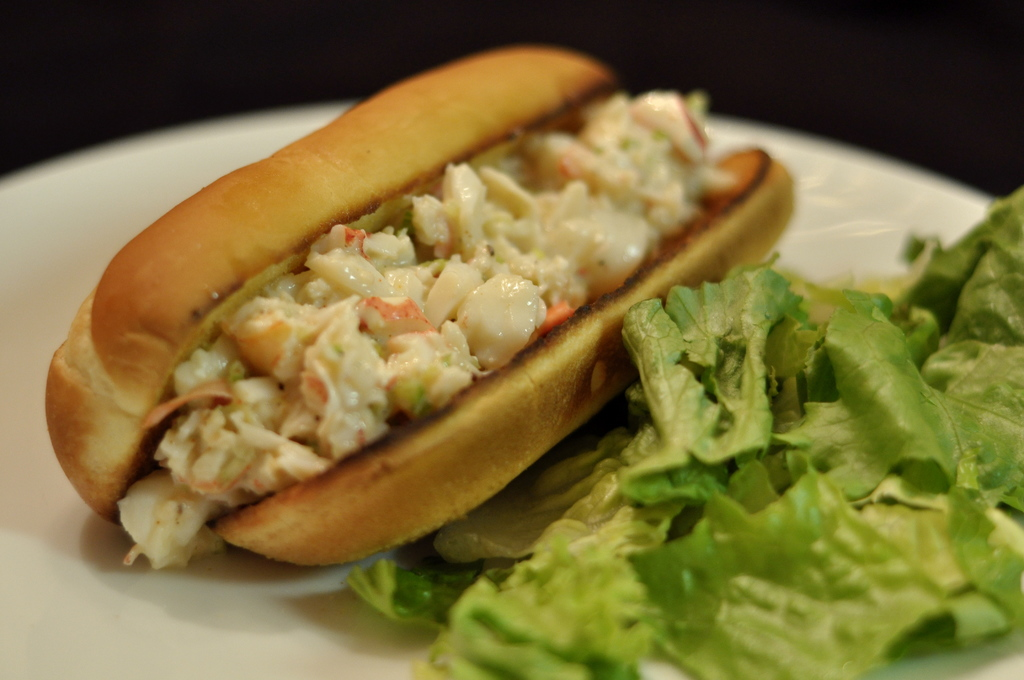hot_dog: (40, 49, 799, 573)
